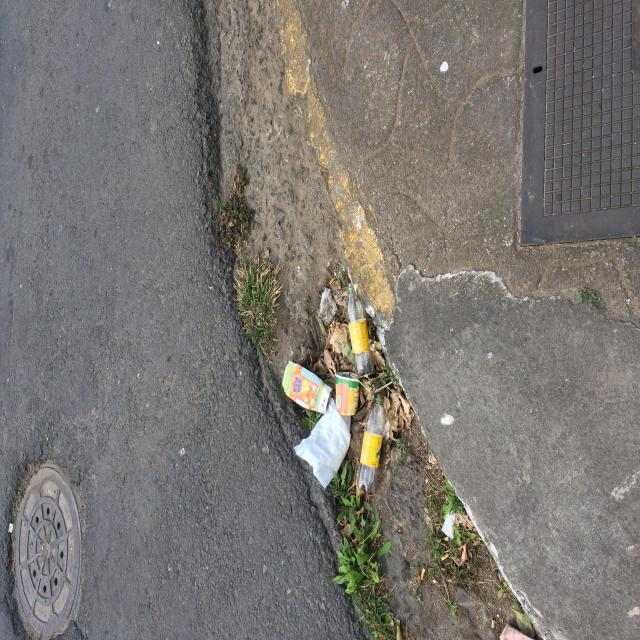bottle: (338, 277, 384, 378), (353, 391, 390, 510)
